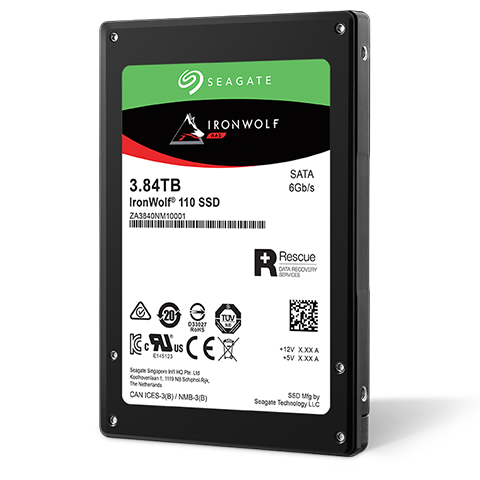seagate-hdd-240gb: (94, 9, 381, 447)
